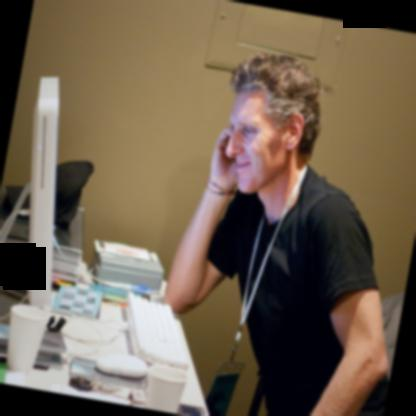handbag: (0, 161, 94, 230)
